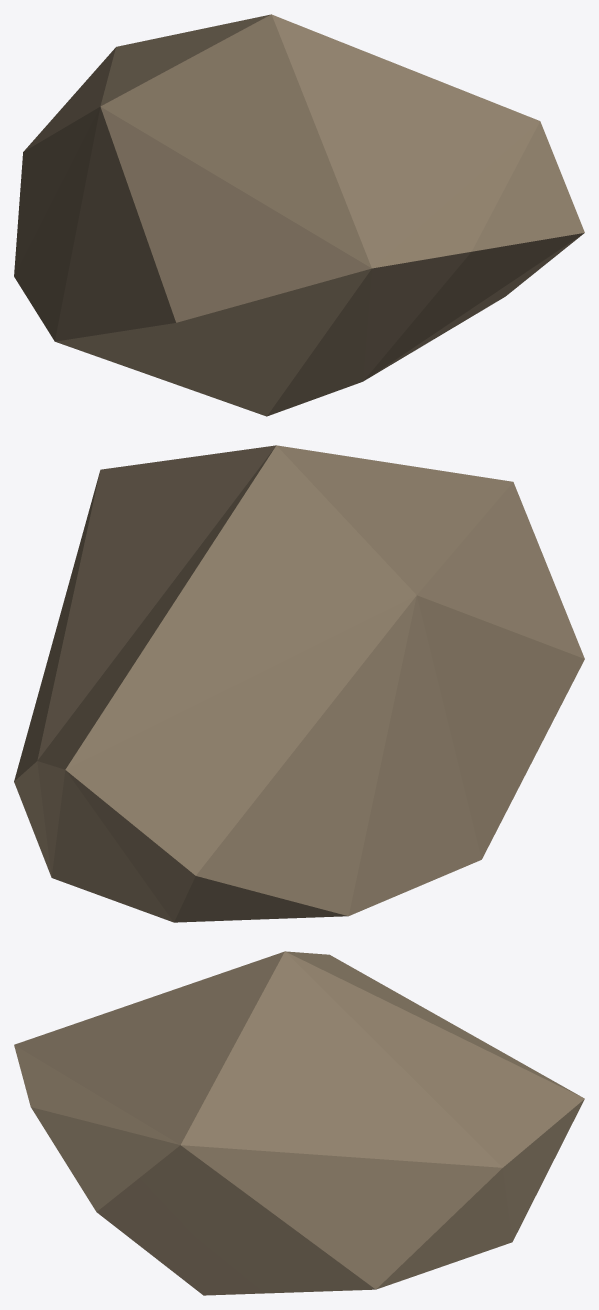
File: Stone_2_brown.fbx
3 views of the same model, one above another, from view 1: azimuth 30°, elevation 25°; view 2: azimuth 150°, elevation 25°; view 3: azimuth 270°, elevation 25° (orthographic). The views are drawn at different scales.
Parts seen in each view (by area): view 1: Stone_2_brown; view 2: Stone_2_brown; view 3: Stone_2_brown.
Part boxes in pixels (left/top/right/bottom): Stone_2_brown: left=14, top=14, right=584, bottom=416; Stone_2_brown: left=14, top=445, right=584, bottom=922; Stone_2_brown: left=14, top=951, right=584, bottom=1295.
Bounding box in the file's own units: 27.27 × 18.87 × 37.23.
